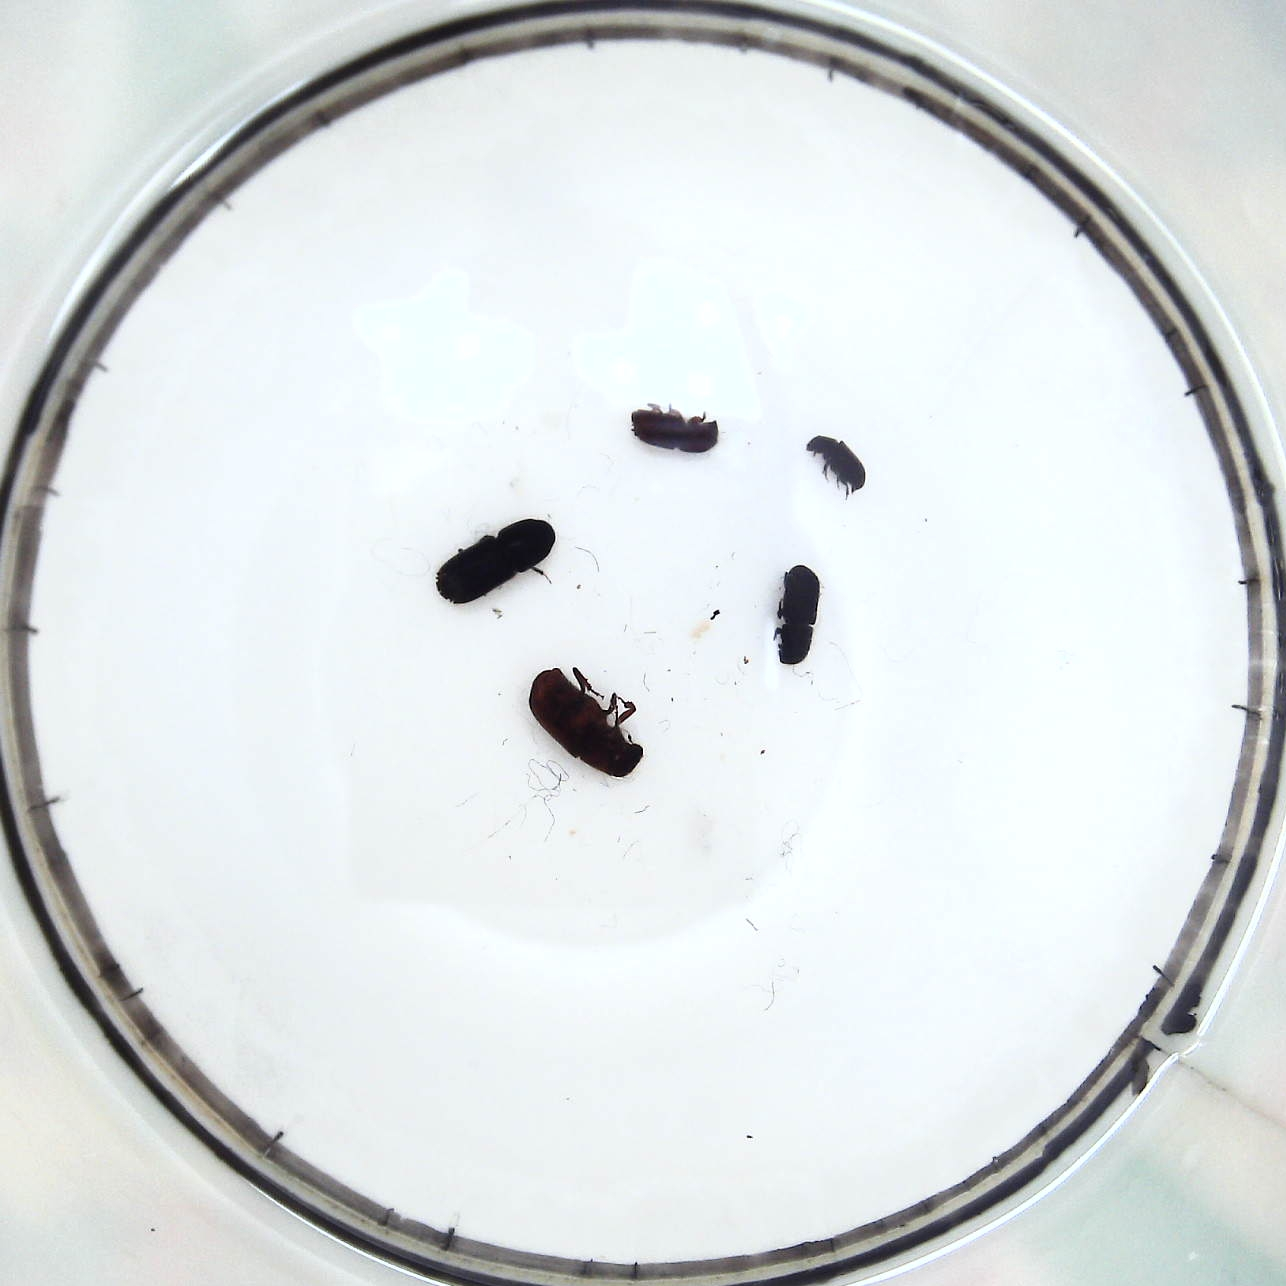Boerner: (429, 517, 563, 603)
Leconte: (526, 667, 647, 782)
Linnaeus: (624, 400, 721, 456)
armandi: (773, 563, 818, 669)
coleoptera: (806, 430, 867, 497)
